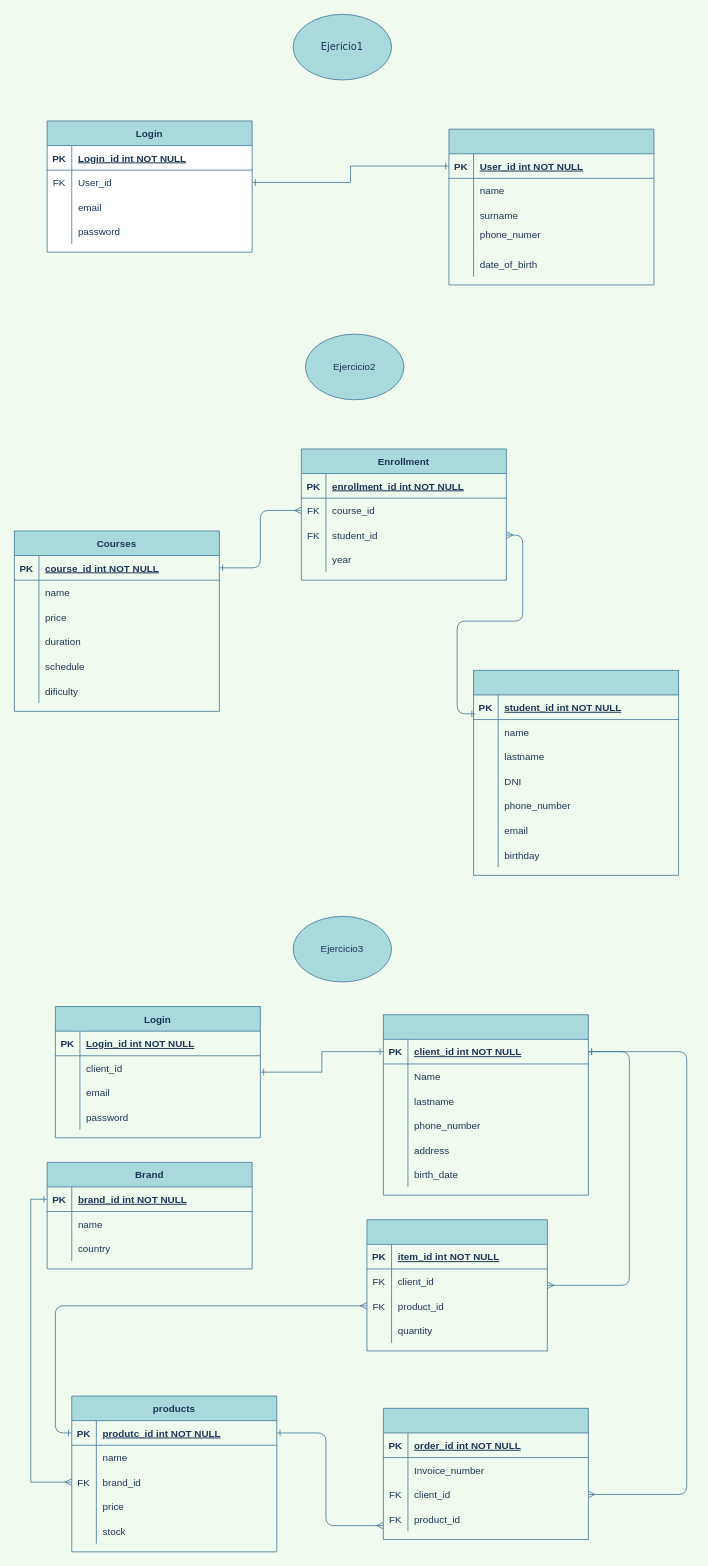
Some shapes in this 708 by 1566 pixel diagram are drawn without their labels. The shapes that lost their labels are listed below. From the top down, each one's box as (x1, y1, x2, y2) in pixels, then its label:
(448, 128, 654, 285): Users
(473, 670, 679, 875): Students
(383, 1014, 588, 1195): Clients
(366, 1219, 547, 1351): Cart items
(383, 1408, 588, 1540): Orders
